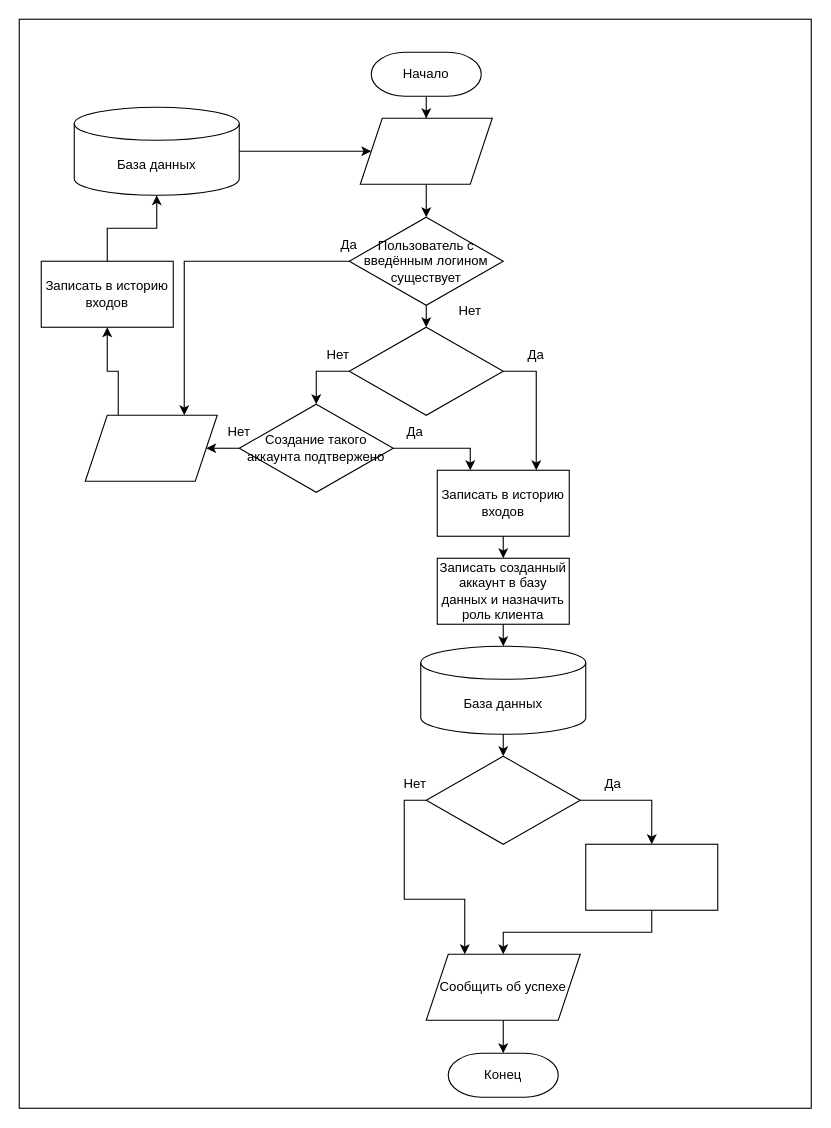
The diagram is 831 pixels wide and 1128 high, and some of its shapes have lost their labels. The shapes that lost their labels are listed below. From the top down, each one's centre as x and y in pixels, then its label:
pixel 425 150: Ввод логина и пароля
pixel 425 370: Пароль введён
pixel 150 447: Сообщение об ошибке
pixel 502 799: Отмечен вход в созданный аккаунт
pixel 651 876: Вход в систему
